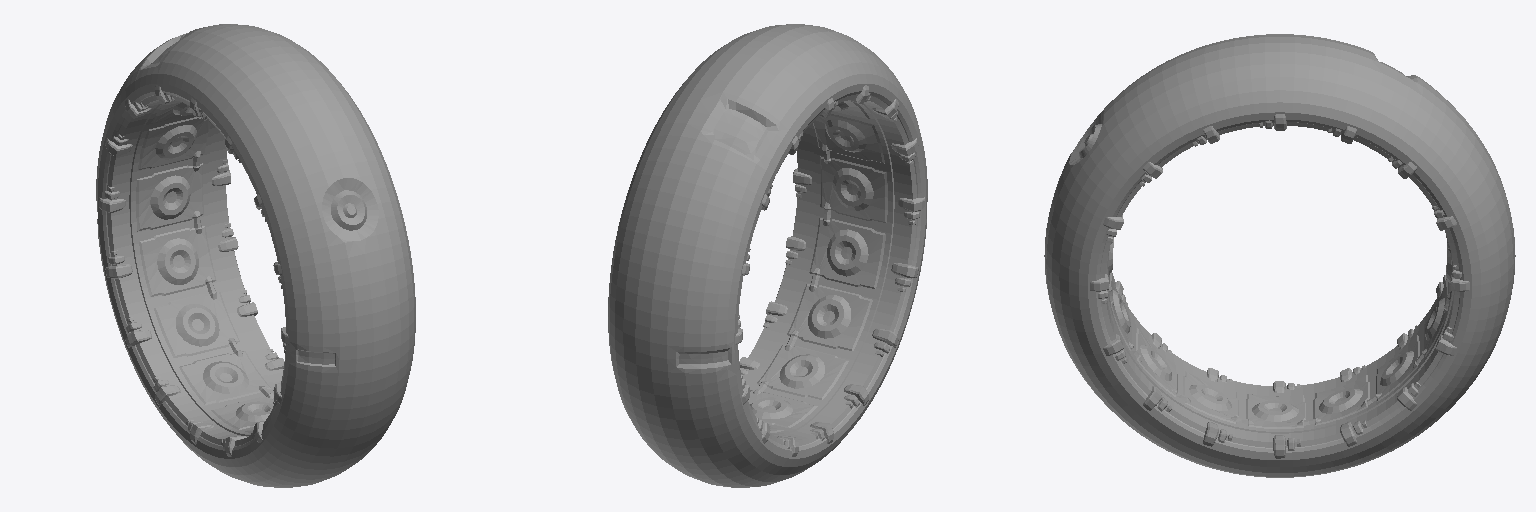
File: Portal.obj
The picture shows the model from 3 angles: view 1: azimuth 30°, elevation 25°; view 2: azimuth 150°, elevation 25°; view 3: azimuth 270°, elevation 25°; orthographic projection.
Parts seen in each view (by area): view 1: Portal_Mesh.006; view 2: Portal_Mesh.006; view 3: Portal_Mesh.006.
Boxes of the visible parts, <box> form: Portal_Mesh.006: <box>96,24,415,487</box>; Portal_Mesh.006: <box>608,24,927,487</box>; Portal_Mesh.006: <box>1044,34,1515,477</box>.
Bounding box in the file's own units: 0.9274 × 2.95 × 2.95.